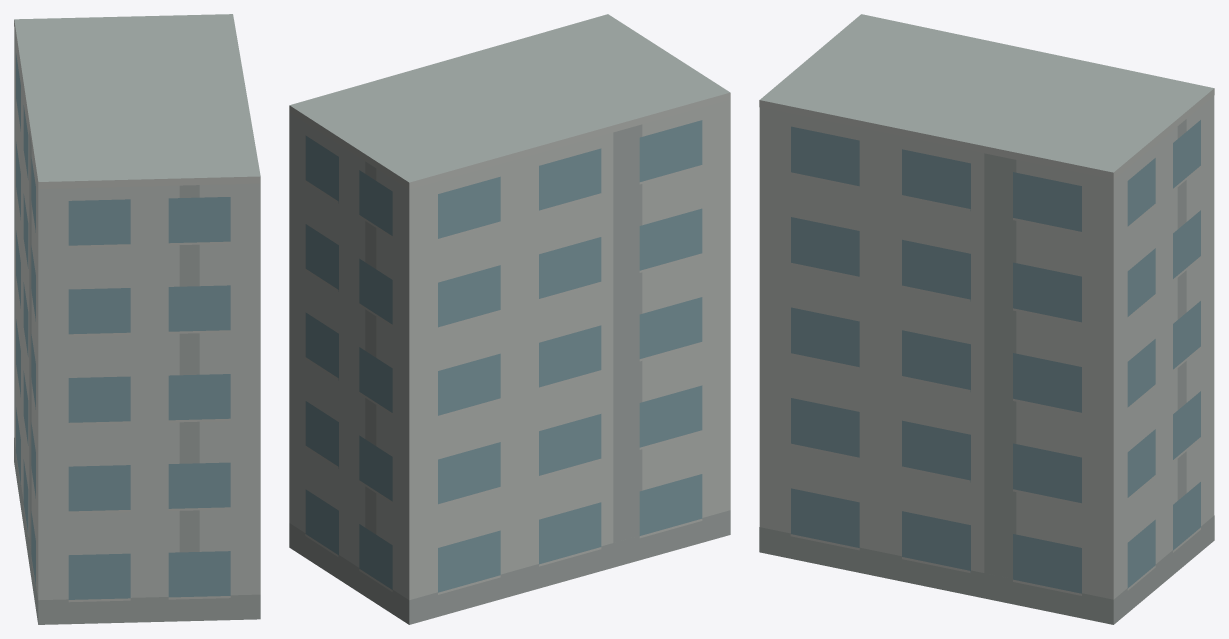
Rendered from survey-upis-32725407.glb.
3 renders of one model, left to right at view 1: azimuth 30°, elevation 25°; view 2: azimuth 150°, elevation 25°; view 3: azimuth 270°, elevation 25°, orthographic. The views are drawn at different scales.
Visible parts, largest first — view 1: survey-upis-32725407.tmp; view 2: survey-upis-32725407.tmp; view 3: survey-upis-32725407.tmp.
Part boxes in pixels (x1=…): survey-upis-32725407.tmp: x1=14, y1=14, x2=260, y2=624; survey-upis-32725407.tmp: x1=289, y1=14, x2=730, y2=624; survey-upis-32725407.tmp: x1=759, y1=14, x2=1214, y2=624.
Bounding box in the file's own units: 11.48 × 15.25 × 13.91.
